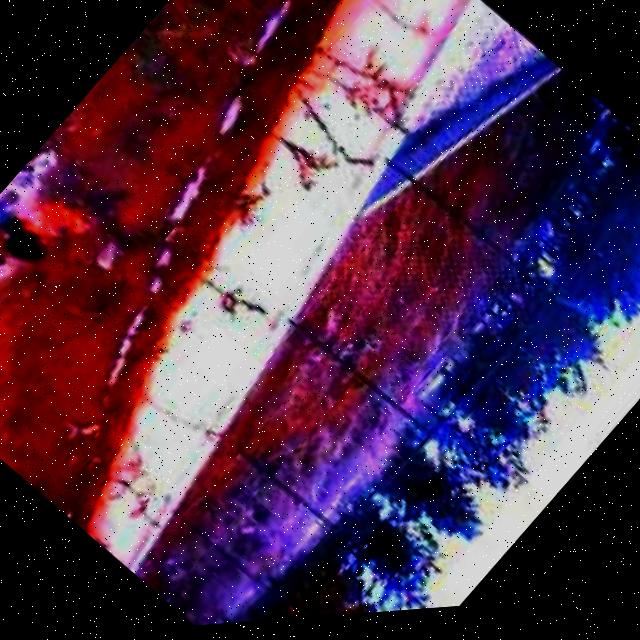Fire: (0, 159, 103, 317)
